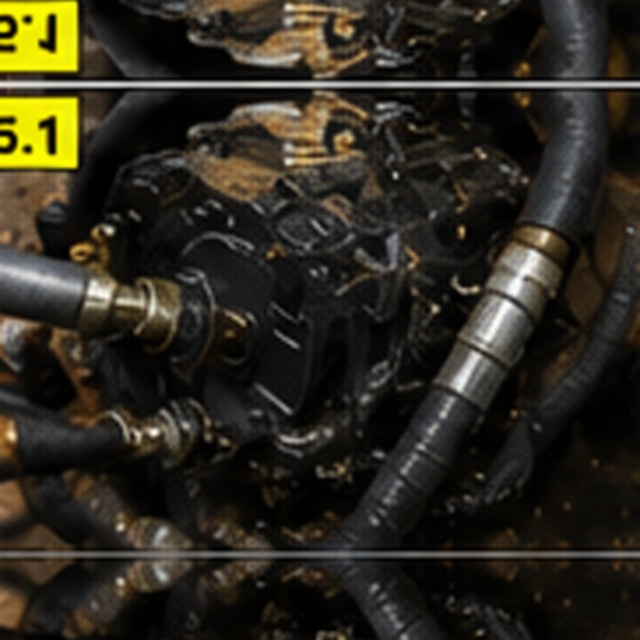hydraulic_oil_leak: (214, 199, 461, 413)
